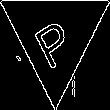P_NW: (30, 6, 80, 68)
